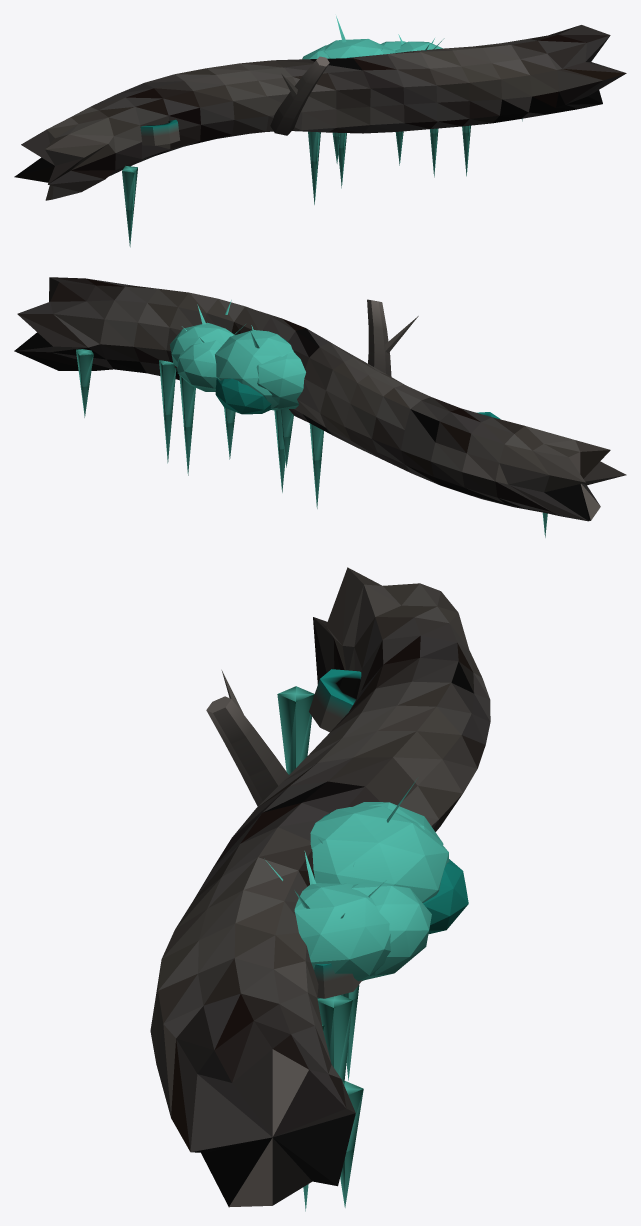
Rendered from pohon_tumbang_bridge_swamp_426261.glb.
3 renders of one model, top to bottom at view 1: azimuth 30°, elevation 25°; view 2: azimuth 150°, elevation 25°; view 3: azimuth 270°, elevation 25°, orthographic. The views are drawn at different scales.
Visible parts, largest first — view 1: Batang_Melintang_Sungai; view 2: Batang_Melintang_Sungai; view 3: Batang_Melintang_Sungai.
Part boxes in pixels (x1,y1,x2,y2): Batang_Melintang_Sungai: [14, 16, 626, 247]; Batang_Melintang_Sungai: [14, 277, 626, 537]; Batang_Melintang_Sungai: [150, 567, 490, 1211].
Size of the model in its own units: 7.44 by 2.28 by 2.
